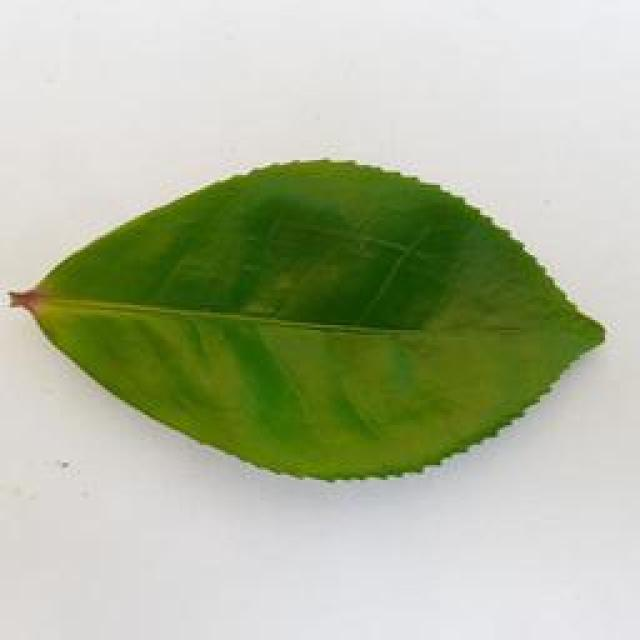Healthy: (6, 153, 640, 488)
